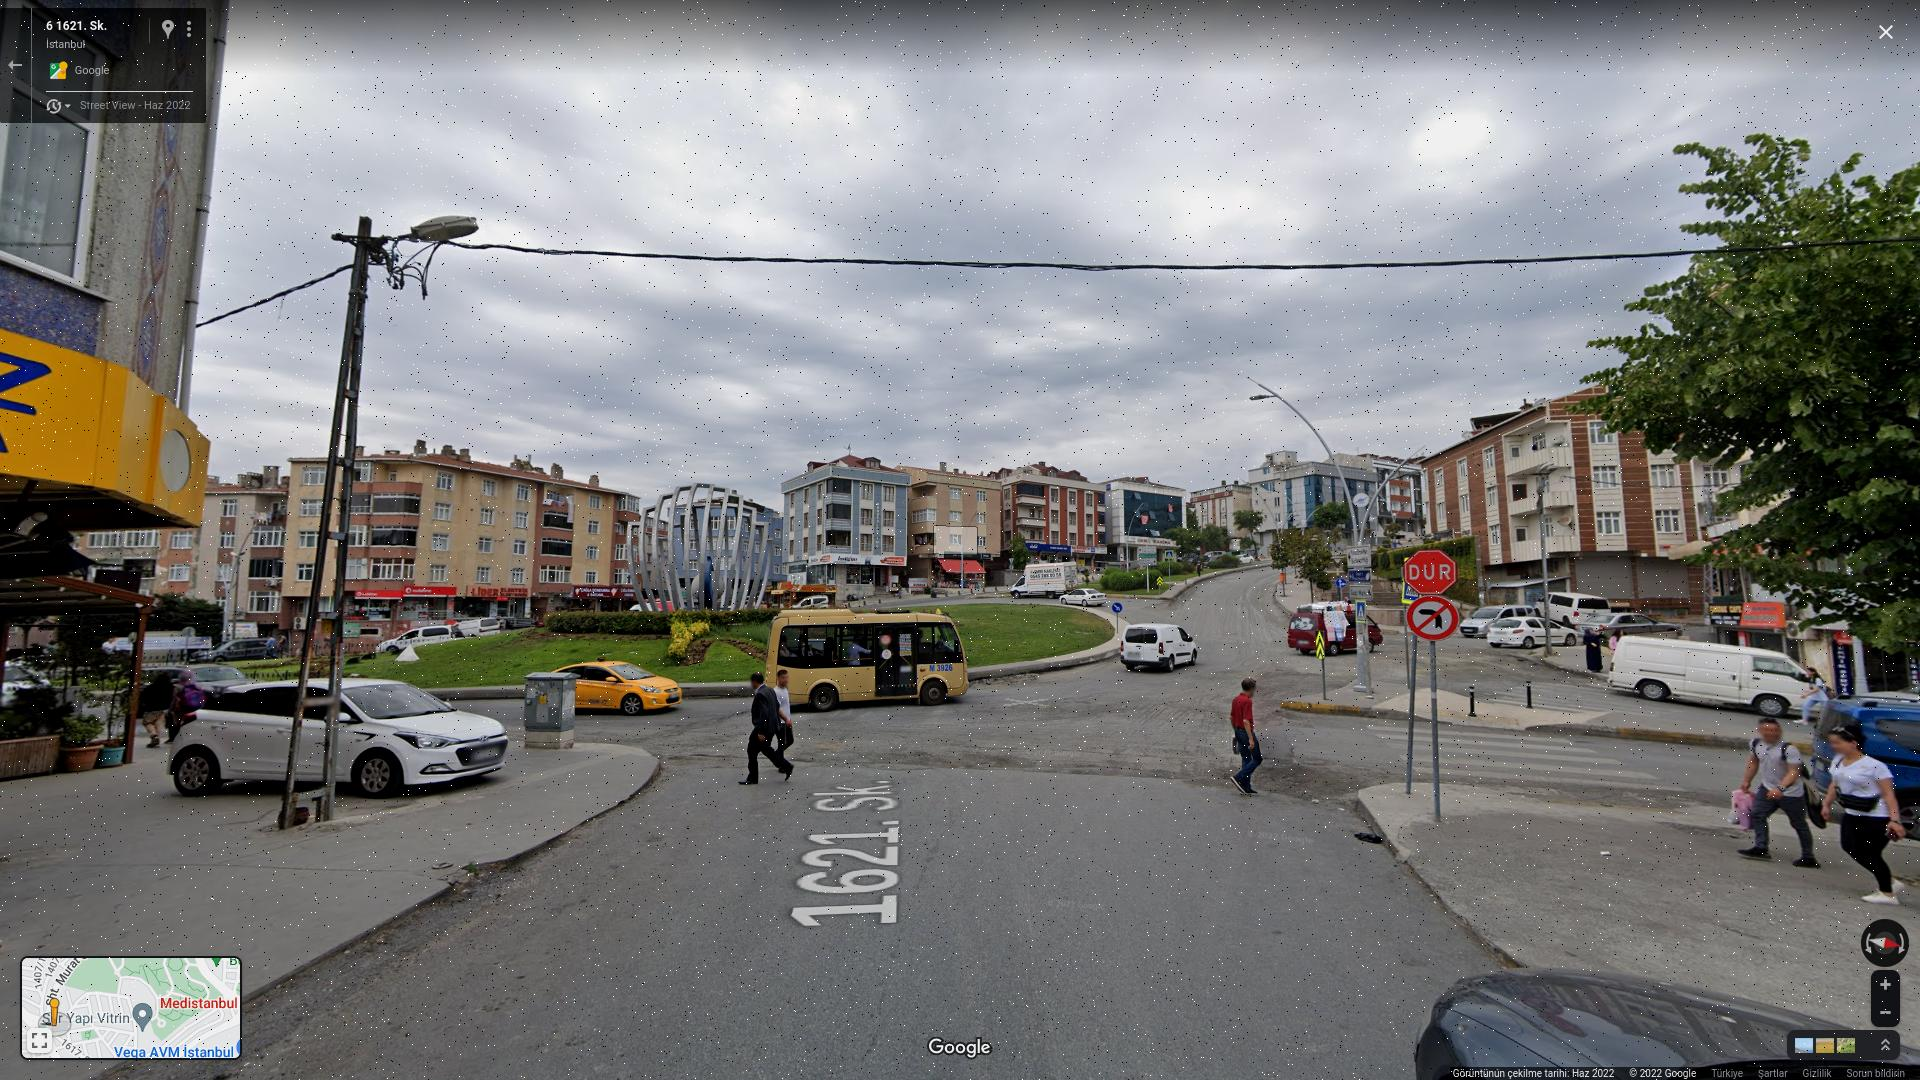leftturnsareforbidden: (1408, 593, 1457, 642)
stop: (1407, 553, 1455, 599)
